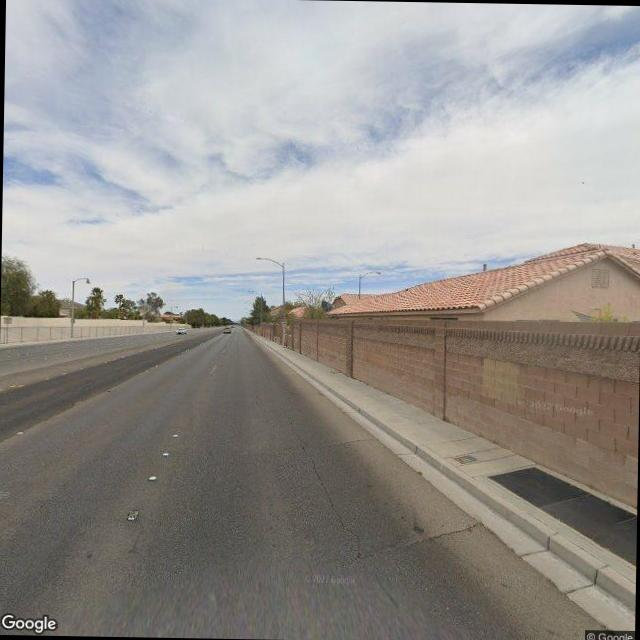crack: (292, 426, 363, 552)
